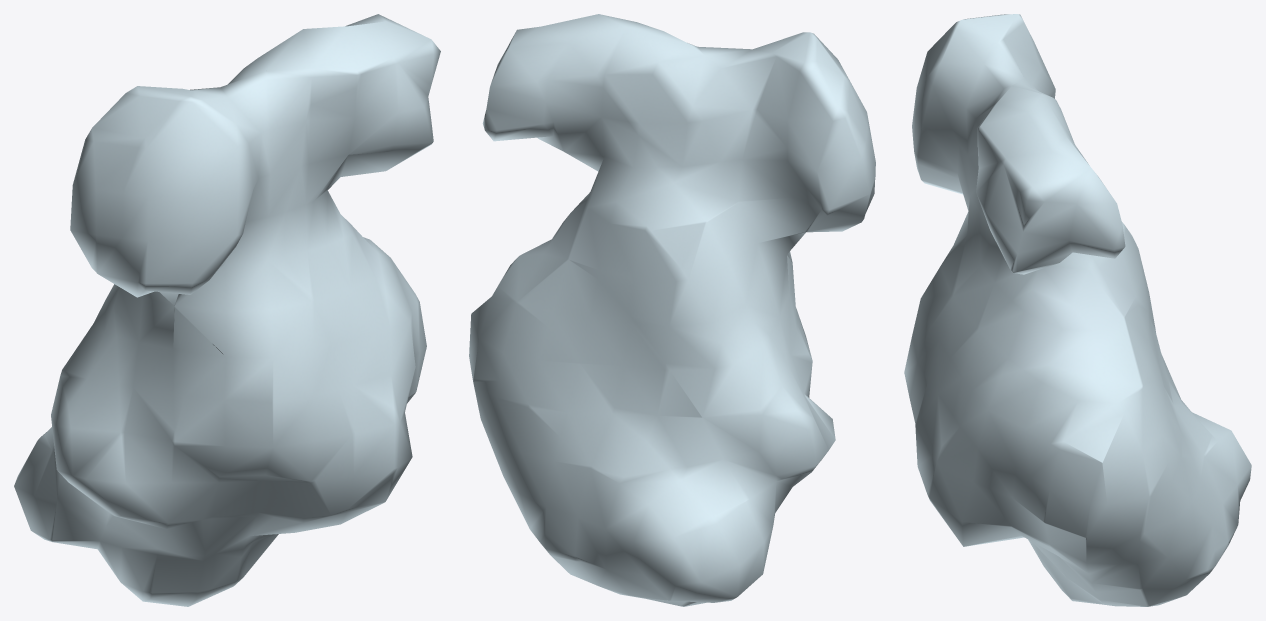
File: dress2.gltf
3 views of the same model, side by side, from view 1: azimuth 30°, elevation 25°; view 2: azimuth 150°, elevation 25°; view 3: azimuth 270°, elevation 25° (orthographic). The views are drawn at different scales.
Visible parts, largest first — view 1: dress2; view 2: dress2; view 3: dress2.
Boxes of the visible parts, left/top/right/bottom form: dress2: left=14, top=14, right=440, bottom=606; dress2: left=469, top=14, right=875, bottom=606; dress2: left=904, top=14, right=1251, bottom=606.
Bounding box in the file's own units: 18.99 × 26.8 × 15.38.
1 material, 1 textured.
